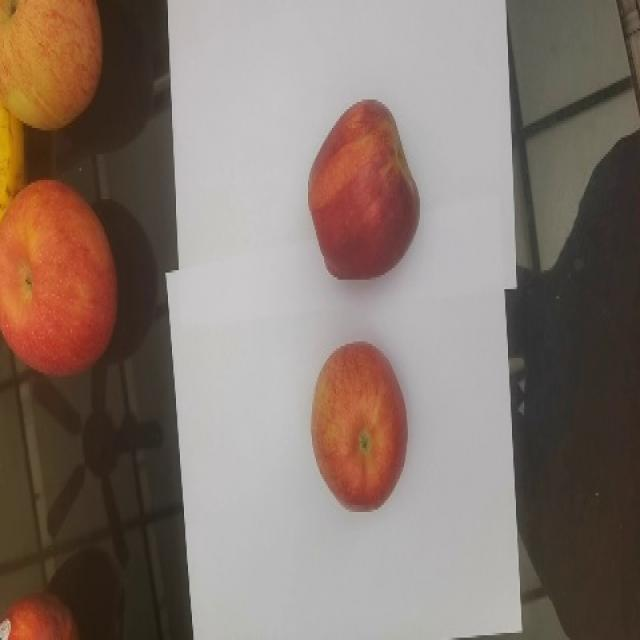Apple: (0, 177, 118, 377), (307, 97, 420, 280), (310, 340, 408, 511), (0, 0, 103, 131), (0, 592, 78, 639), (0, 105, 25, 219)
